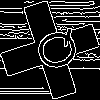Q: (25, 25, 83, 77)
